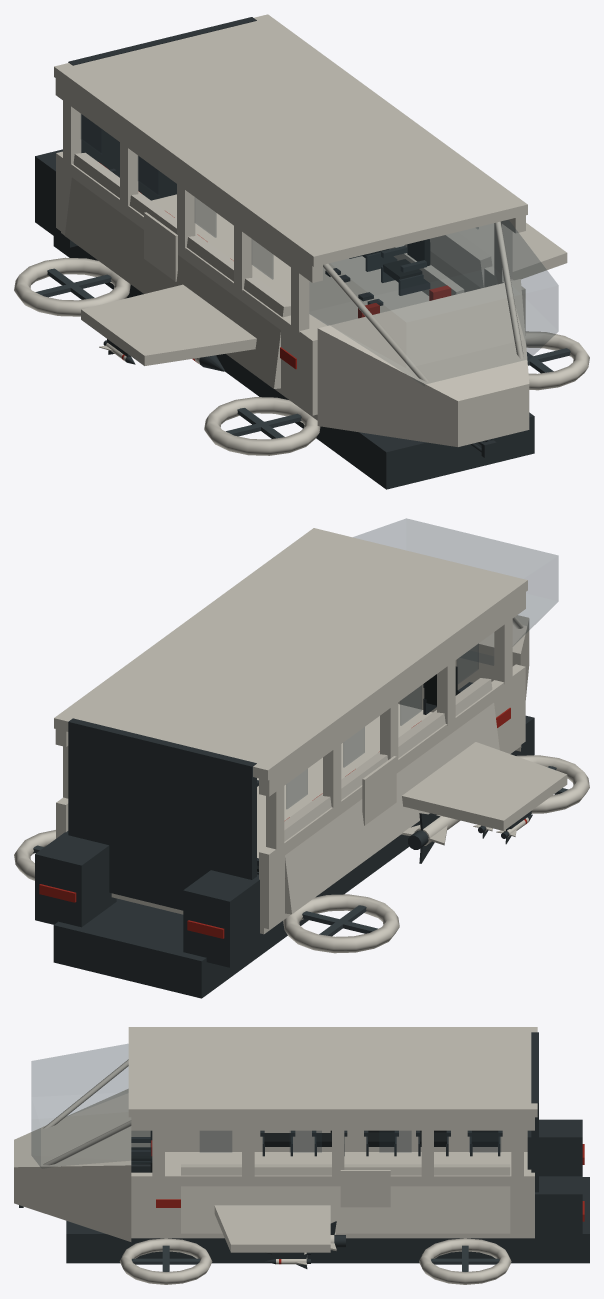
The picture shows the model from 3 angles, top to bottom: view 1: azimuth 30°, elevation 25°; view 2: azimuth 150°, elevation 25°; view 3: azimuth 270°, elevation 25°; orthographic projection. The views are drawn at different scales.
Parts seen in each view (by area): view 1: hover-transport-painted, transport-roof-painted, hover-transport-glazing, transport-ramp-painted, crew-seating-batch-painted, rotor-lift--1-2.9-fleet-machine, rotor-lift--1--3.1-fleet-machine; view 2: hover-transport-painted, transport-roof-painted, transport-ramp-painted, hover-transport-glazing, store-hover-large--1-painted, rotor-lift--1--3.1-fleet-machine, crew-seating-batch-painted; view 3: hover-transport-painted, transport-roof-painted, hover-transport-glazing, crew-seating-batch-painted, transport-ramp-painted, rotor-lift-1-2.9-fleet-machine, rotor-lift-1--3.1-fleet-machine, store-hover-large-1-painted.
Boxes of the visible parts, bbox=[...] form: hover-transport-painted: bbox=[14, 149, 589, 489]; transport-roof-painted: bbox=[54, 14, 527, 332]; hover-transport-glazing: bbox=[81, 114, 558, 385]; transport-ramp-painted: bbox=[68, 17, 256, 200]; crew-seating-batch-painted: bbox=[99, 162, 451, 318]; rotor-lift--1-2.9-fleet-machine: bbox=[226, 408, 301, 438]; rotor-lift--1--3.1-fleet-machine: bbox=[35, 268, 111, 299]; hover-transport-painted: bbox=[14, 615, 589, 998]; transport-roof-painted: bbox=[54, 528, 527, 850]; transport-ramp-painted: bbox=[68, 718, 256, 910]; hover-transport-glazing: bbox=[286, 518, 558, 808]; store-hover-large--1-painted: bbox=[401, 813, 460, 863]; rotor-lift--1--3.1-fleet-machine: bbox=[302, 905, 377, 936]; crew-seating-batch-painted: bbox=[257, 666, 472, 874]; hover-transport-painted: bbox=[14, 1059, 589, 1284]; transport-roof-painted: bbox=[128, 1027, 537, 1177]; hover-transport-glazing: bbox=[31, 1044, 500, 1168]; crew-seating-batch-painted: bbox=[131, 1130, 502, 1172]; transport-ramp-painted: bbox=[531, 1032, 538, 1192]; rotor-lift-1-2.9-fleet-machine: bbox=[132, 1245, 200, 1271]; rotor-lift-1--3.1-fleet-machine: bbox=[431, 1245, 499, 1271]; store-hover-large-1-painted: bbox=[317, 1221, 345, 1261].
Bounding box in the file's own units: 42.11 × 20.23 × 63.16.
